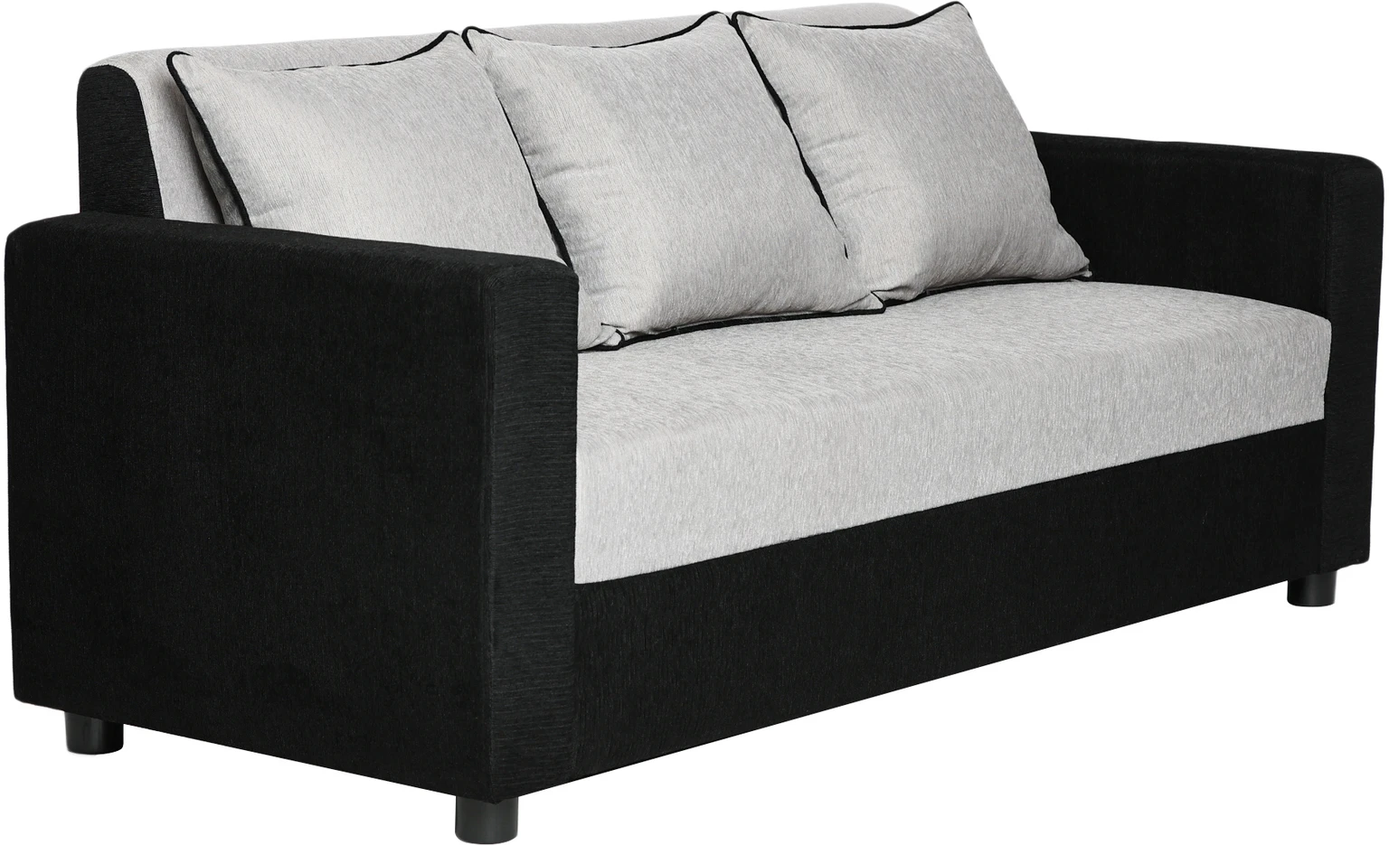3seatersofa: (5, 2, 1384, 842)
backrest: (77, 24, 453, 222), (510, 15, 695, 44), (773, 3, 907, 23)
base: (572, 422, 1324, 778)
leftarmrest: (1034, 134, 1384, 574)
leg: (455, 797, 518, 844), (65, 713, 122, 754), (1288, 572, 1334, 606)
pillow: (173, 5, 1083, 349)
rightarmrest: (5, 212, 577, 799)
seat: (572, 282, 1331, 584)
